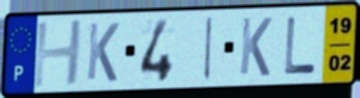4: (138, 16, 176, 84)
H: (30, 17, 85, 91)
I: (202, 15, 216, 83)
K: (237, 15, 275, 79), (84, 21, 122, 84)
L: (283, 15, 318, 76)
